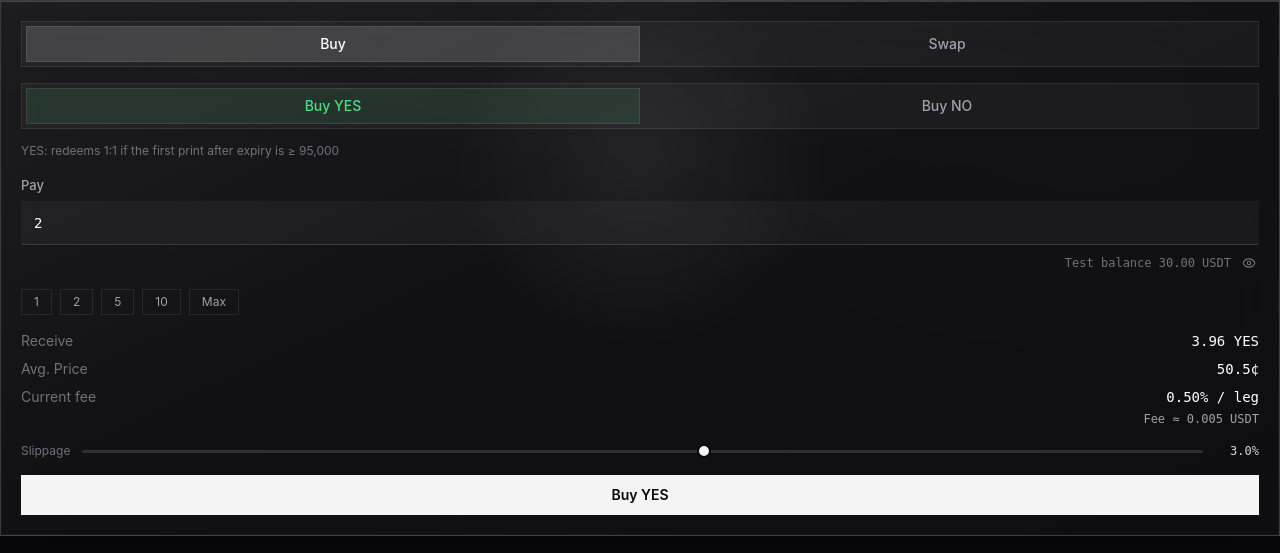
it: Sandbox desks & header integration › TradeDesk executes user_bet_on via runSandbox without simulation banner, and guides swap to real wallet without gray-lock
The image size is (1280, 553).
Later steps or results of the test are not shown.
Click the 2nd button "Buy YES" at (640, 495), box [21,475,1259,515]
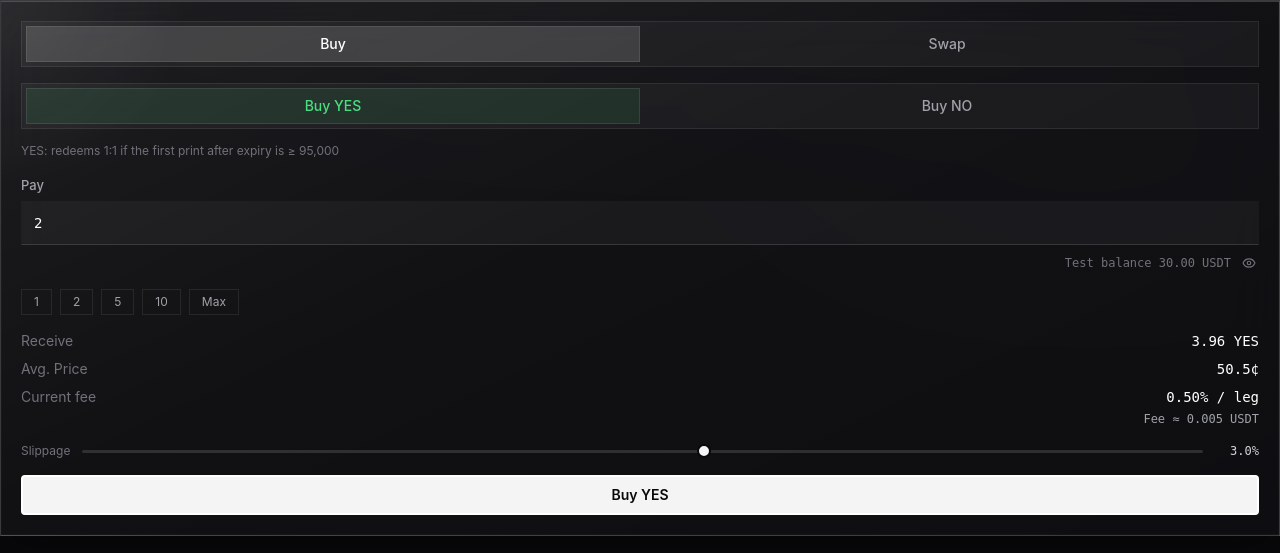
Switch to Swap tab: stays enabled with real-wallet prompt, no insufficient-shares lock
Click the button "Swap" at (947, 44), box [640,26,1254,62]
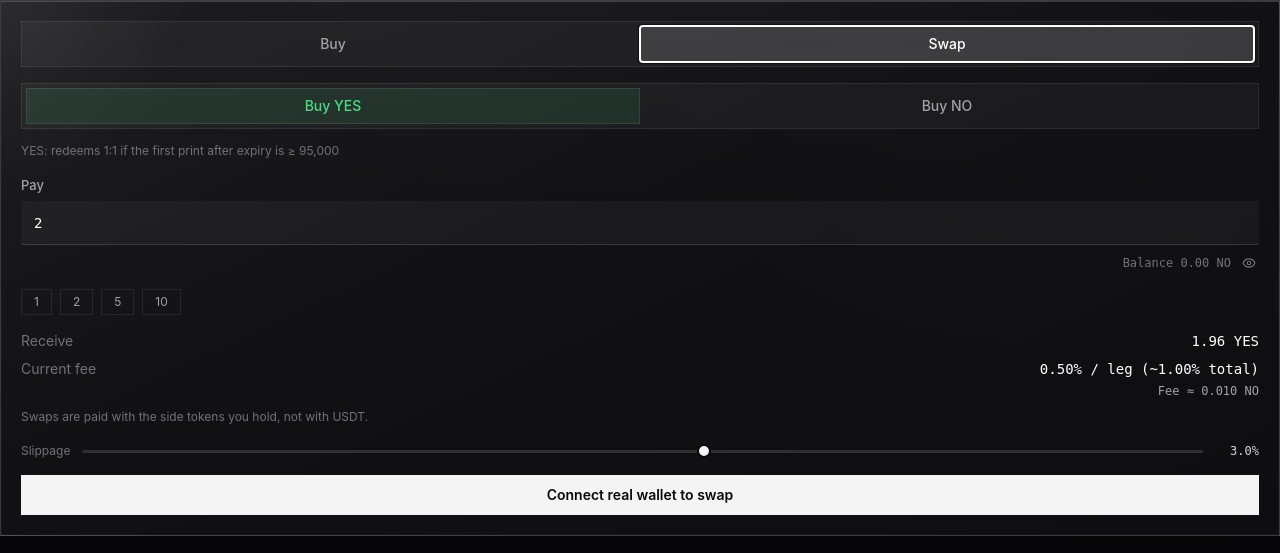
expect the button "Connect real wallet to swap" is enabled: met, box [21,475,1259,515]
expect the button "Connect real wallet to swap" is shown: met, box [21,475,1259,515]
